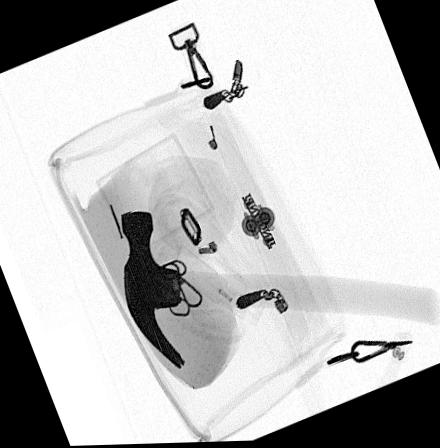Hammer: (118, 211, 440, 371)
